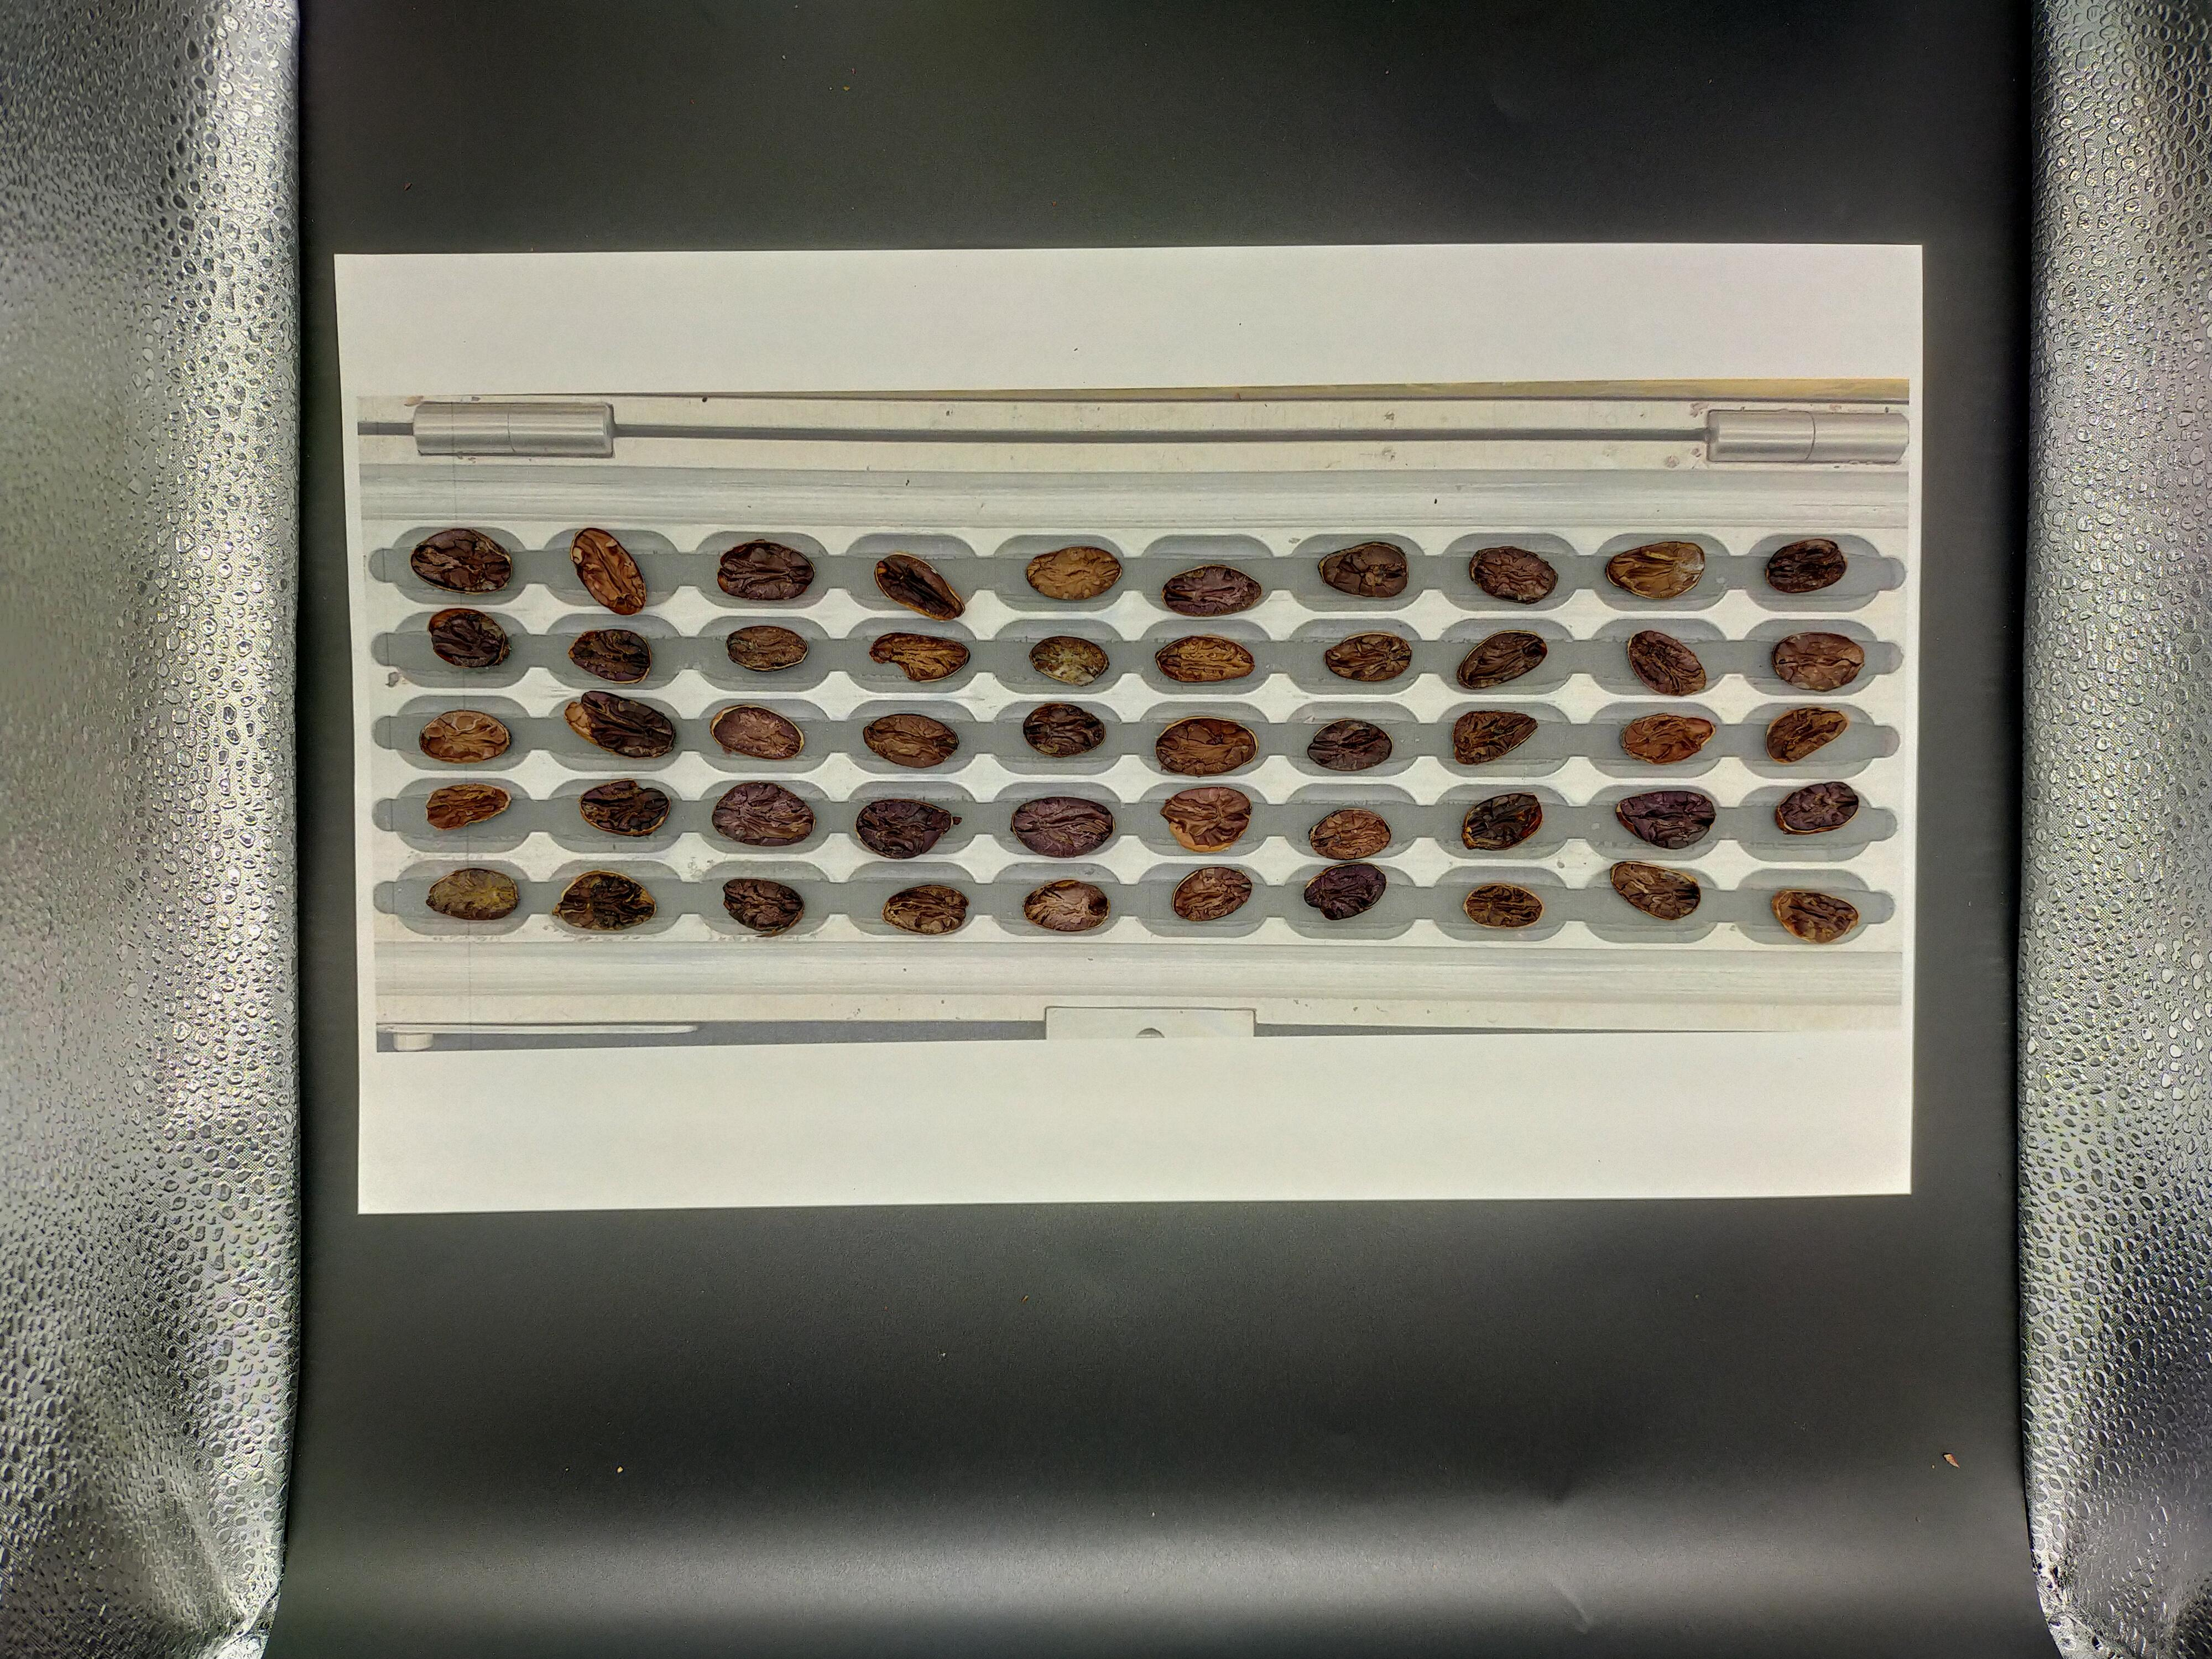Brown - G1: (286, 1077, 333, 1129), (590, 1211, 644, 1249), (449, 1258, 500, 1295), (214, 1208, 266, 1241), (674, 1131, 726, 1164)
Brown - G2: (902, 1262, 956, 1300), (442, 1129, 500, 1164), (826, 1173, 883, 1208), (589, 1131, 648, 1164), (597, 1249, 646, 1290), (740, 1169, 791, 1208), (214, 1171, 265, 1204)
Brown - G3: (587, 1175, 648, 1213), (829, 1129, 880, 1171), (439, 1171, 495, 1208), (904, 1131, 960, 1168), (820, 1249, 878, 1284), (521, 1086, 577, 1121), (749, 1087, 801, 1122), (521, 1258, 573, 1291), (900, 1169, 949, 1204), (667, 1222, 716, 1253)
Brown - G4: (369, 1126, 416, 1157)
Insect-damaged: (214, 1253, 272, 1288)
Mouldy: (820, 1082, 878, 1122), (526, 1133, 573, 1166)
Partly Purple - G1: (294, 1206, 348, 1244), (289, 1129, 336, 1162)
Partly Purple - G2: (362, 1206, 421, 1248), (364, 1084, 423, 1121)
Partly Purple - G3: (592, 1098, 651, 1129)
Partly Purple - G4: (361, 1168, 416, 1204)
Total Purple - G3: (516, 1215, 575, 1253), (435, 1216, 493, 1255), (904, 1209, 958, 1244), (664, 1251, 714, 1284)
Very Dark Brown - G1: (284, 1162, 350, 1204), (282, 1255, 341, 1293), (218, 1119, 263, 1155), (745, 1262, 794, 1291)
Very Dark Brown - G2: (822, 1209, 883, 1249), (207, 1079, 268, 1117), (442, 1089, 498, 1131), (744, 1211, 794, 1251), (900, 1084, 948, 1121), (521, 1168, 570, 1202), (368, 1258, 415, 1291)
Very Dark Brown - G3: (742, 1129, 796, 1169), (671, 1086, 728, 1122), (667, 1176, 716, 1209)
